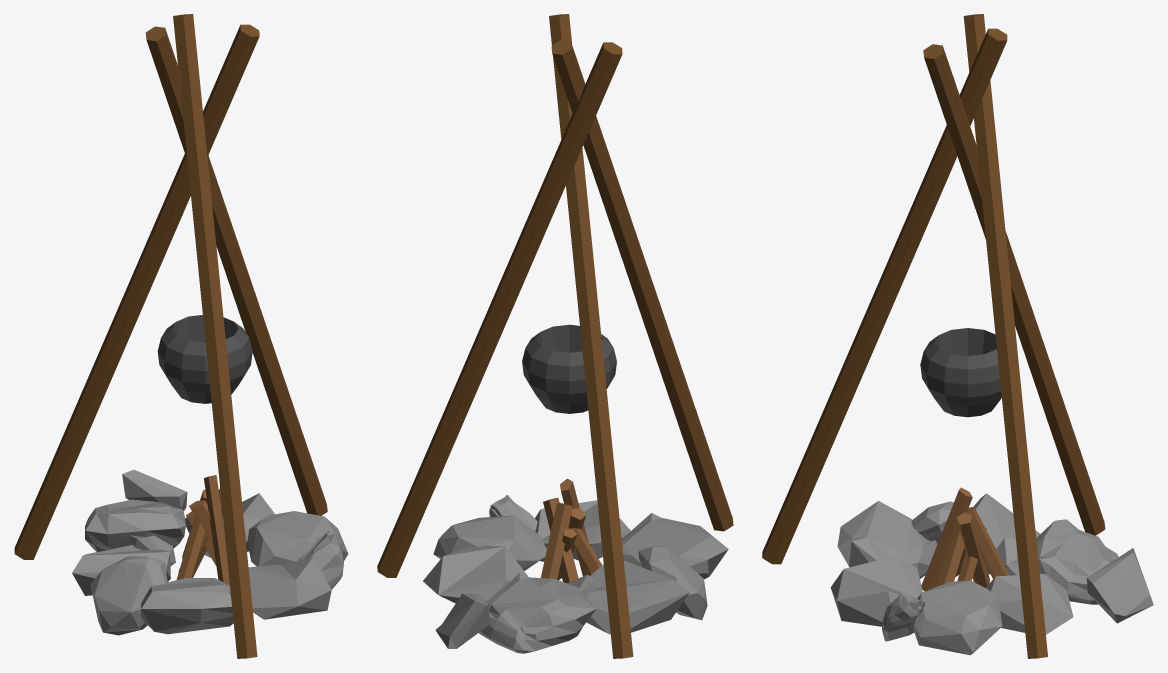
The model's file is cookingstand_01.fbx.
3 views of the same model, side by side, from view 1: azimuth 30°, elevation 25°; view 2: azimuth 150°, elevation 25°; view 3: azimuth 270°, elevation 25° (orthographic).
Parts seen in each view (by area): view 1: CookingStand_01; view 2: CookingStand_01; view 3: CookingStand_01.
Part boxes in pixels (left/top/right/bottom): CookingStand_01: left=14, top=14, right=348, bottom=658; CookingStand_01: left=377, top=14, right=733, bottom=658; CookingStand_01: left=762, top=14, right=1153, bottom=658.
Size of the model in its own units: 59.87 by 71.43 by 116.
